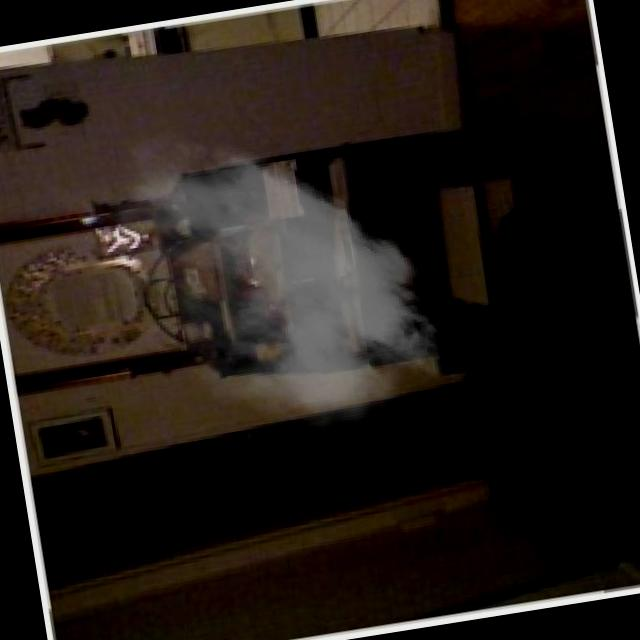Smoke: (46, 85, 467, 484)
